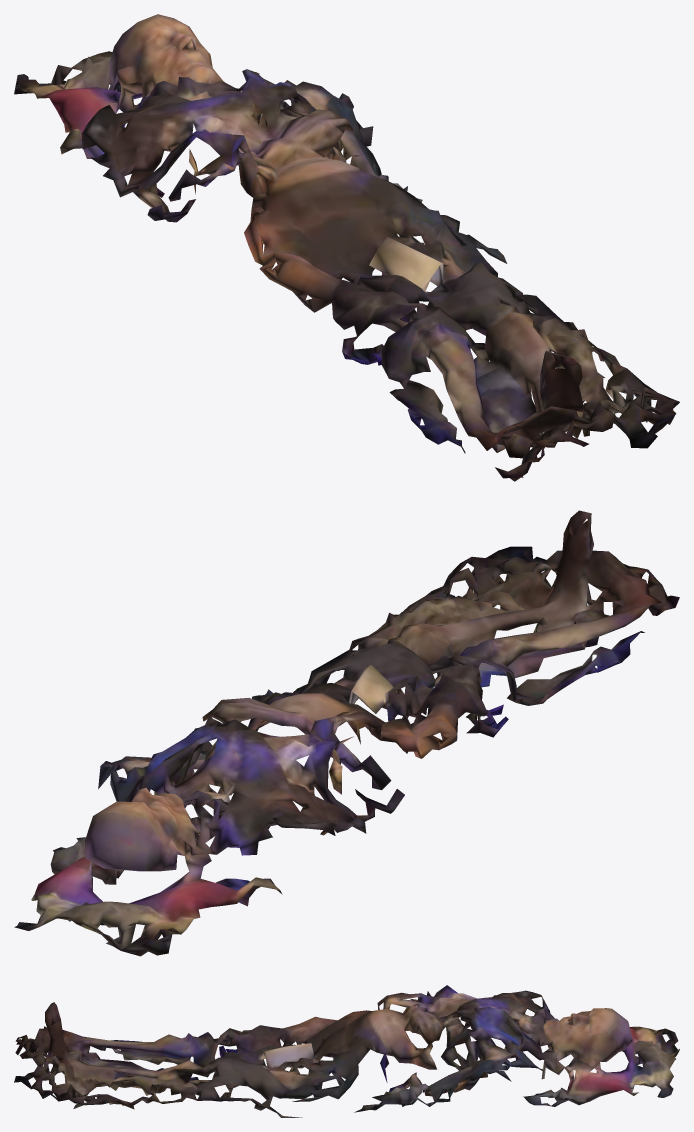
File: corpse_in_coffin_dead_presidents-opt.glb
3 views of the same model, one above another, from view 1: azimuth 30°, elevation 25°; view 2: azimuth 150°, elevation 25°; view 3: azimuth 270°, elevation 25° (orthographic). The views are drawn at different scales.
Parts seen in each view (by area): view 1: geo1_MAT_CorpseInCoffin_DeadPresidents_0; view 2: geo1_MAT_CorpseInCoffin_DeadPresidents_0; view 3: geo1_MAT_CorpseInCoffin_DeadPresidents_0.
Boxes of the visible parts, x1,y1,x2,y2 form: geo1_MAT_CorpseInCoffin_DeadPresidents_0: [14, 14, 679, 481]; geo1_MAT_CorpseInCoffin_DeadPresidents_0: [14, 510, 679, 956]; geo1_MAT_CorpseInCoffin_DeadPresidents_0: [14, 985, 679, 1117].
Size of the model in its own units: 0.5394 by 0.249 by 1.83.
1 material, 1 textured.
